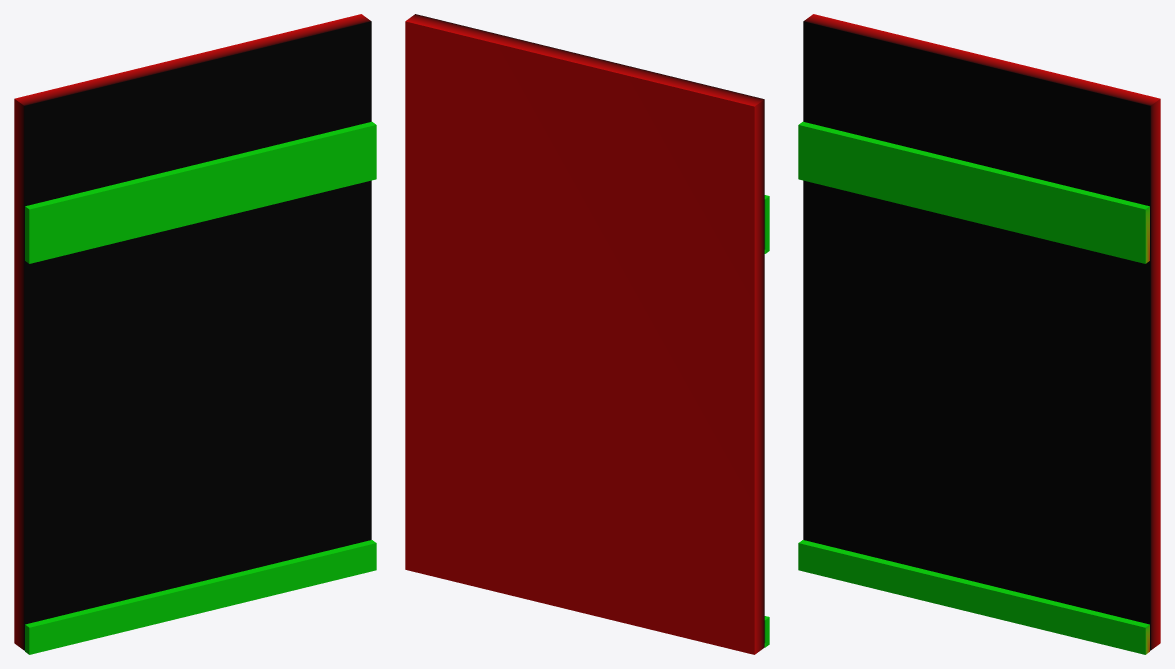
Rendered from FlatBaseWall.fbx.
3 views of the same model, side by side, from view 1: azimuth 30°, elevation 25°; view 2: azimuth 150°, elevation 25°; view 3: azimuth 330°, elevation 25° (orthographic).
Visible parts, largest first — view 1: FlatBaseWall; view 2: FlatBaseWall; view 3: FlatBaseWall.
Part boxes in pixels (left/top/right/bottom): FlatBaseWall: left=14, top=14, right=376, bottom=654; FlatBaseWall: left=405, top=14, right=769, bottom=654; FlatBaseWall: left=798, top=14, right=1160, bottom=654.
Size of the model in its own units: 400 by 601 by 30.
